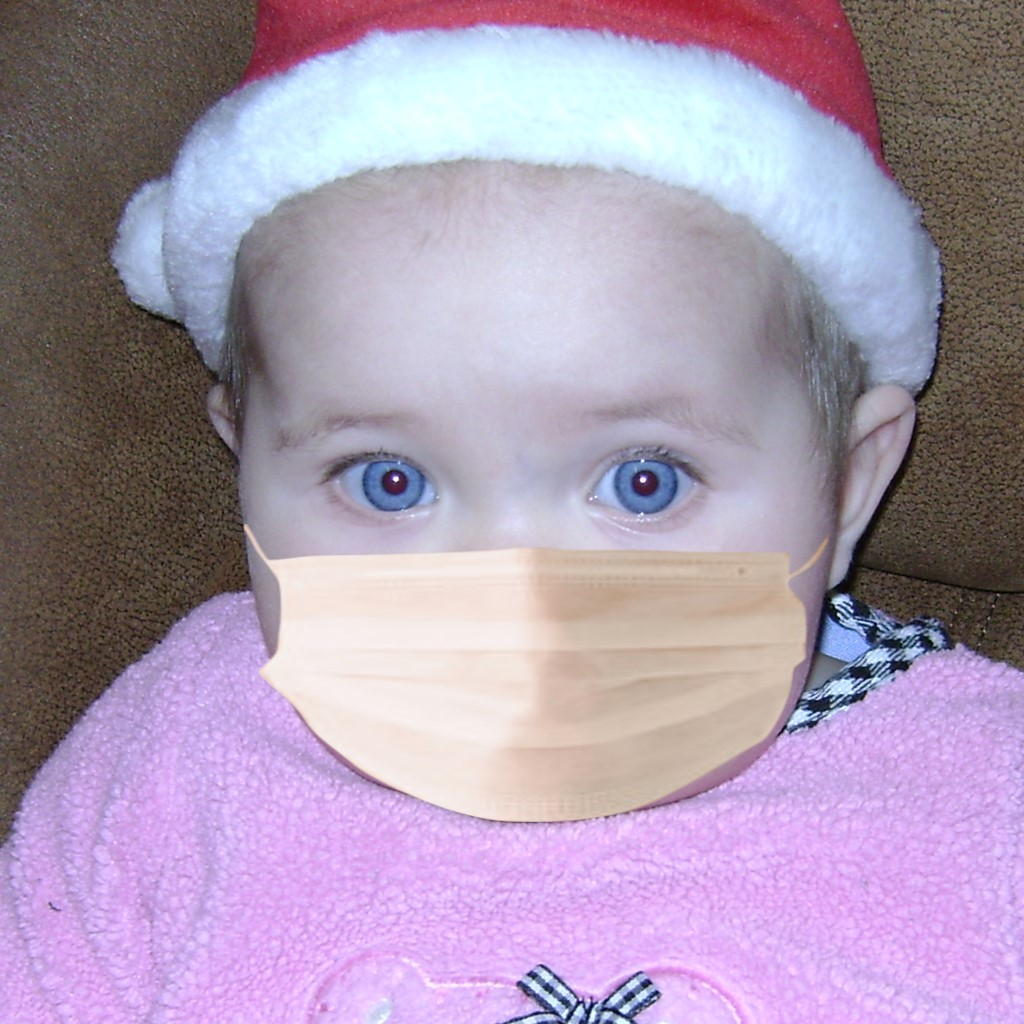con_mascara: (214, 131, 861, 824)
